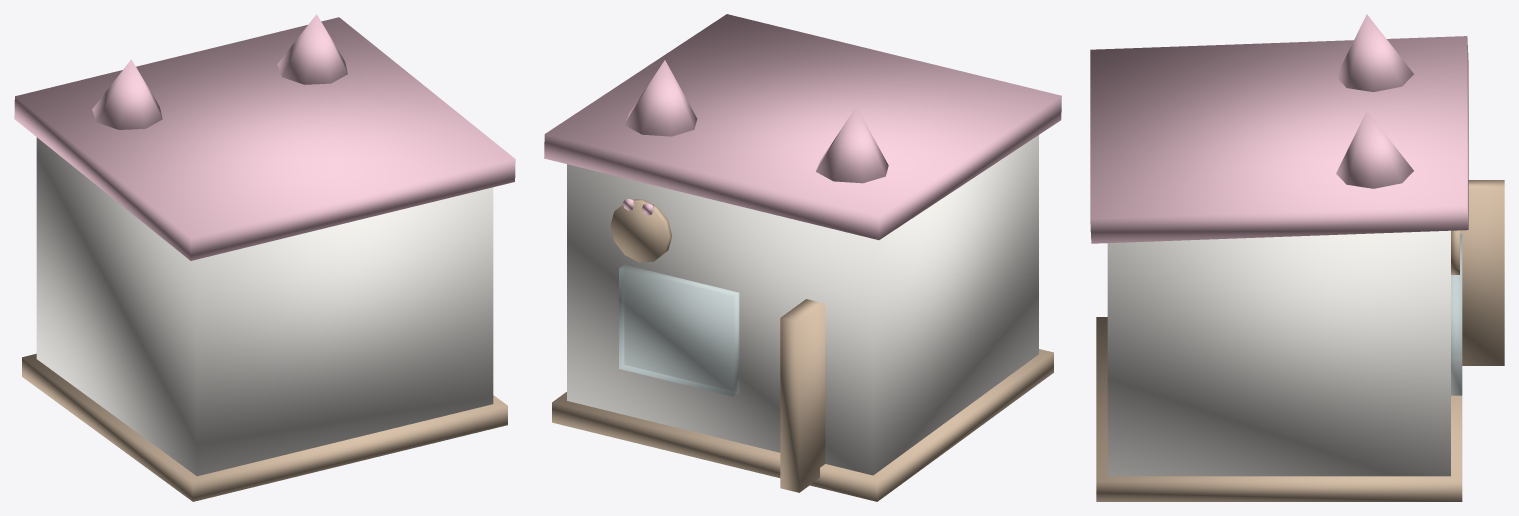
Rendered from cat_cafe.glb.
3 views of the same model, side by side, from view 1: azimuth 30°, elevation 25°; view 2: azimuth 150°, elevation 25°; view 3: azimuth 270°, elevation 25° (orthographic). The views are drawn at different scales.
Visible parts, largest first — view 1: cat_cafe_body, cat_cafe_roof, cat_cafe_floor, cat_ear_r, cat_ear_l; view 2: cat_cafe_body, cat_cafe_roof, cat_cafe_floor, cat_window, cat_door, cat_ear_l, cat_ear_r, cat_sign_board; view 3: cat_cafe_body, cat_cafe_roof, cat_cafe_floor, cat_door, cat_ear_r, cat_ear_l, cat_window.
Boxes of the visible parts, x1,y1,x2,y2 form: cat_cafe_body: (36,137,493,476); cat_cafe_roof: (14,17,515,260); cat_cafe_floor: (22,353,507,501); cat_ear_r: (277,14,347,84); cat_ear_l: (92,59,162,129); cat_cafe_body: (567,135,1038,475); cat_cafe_roof: (544,14,1061,239); cat_cafe_floor: (552,349,1053,501); cat_window: (619,264,739,396); cat_door: (780,299,825,492); cat_ear_l: (816,107,888,183); cat_ear_r: (624,60,697,136); cat_sign_board: (610,199,672,262); cat_cafe_body: (1107,230,1450,476); cat_cafe_roof: (1090,36,1468,243); cat_cafe_floor: (1096,317,1462,501); cat_door: (1460,180,1504,365); cat_ear_r: (1336,111,1413,188); cat_ear_l: (1336,14,1413,92); cat_window: (1451,234,1462,395).
Bounding box in the file's own units: 1.75 × 1.72 × 1.81.
